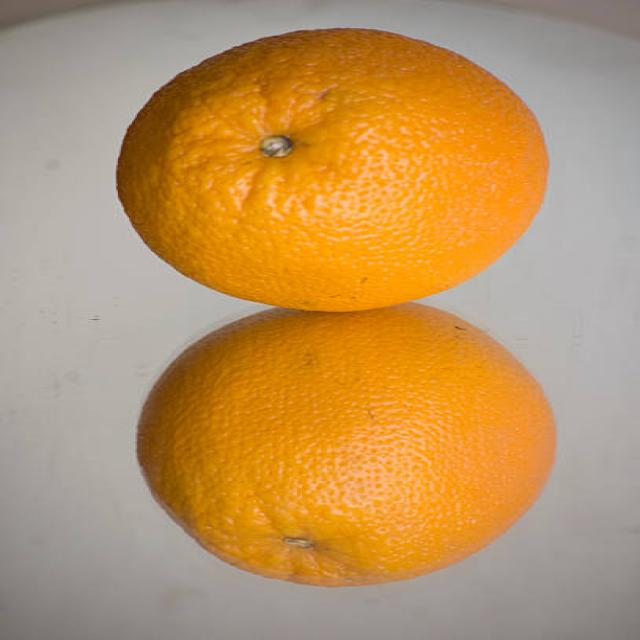Ripe: (113, 21, 561, 314)
